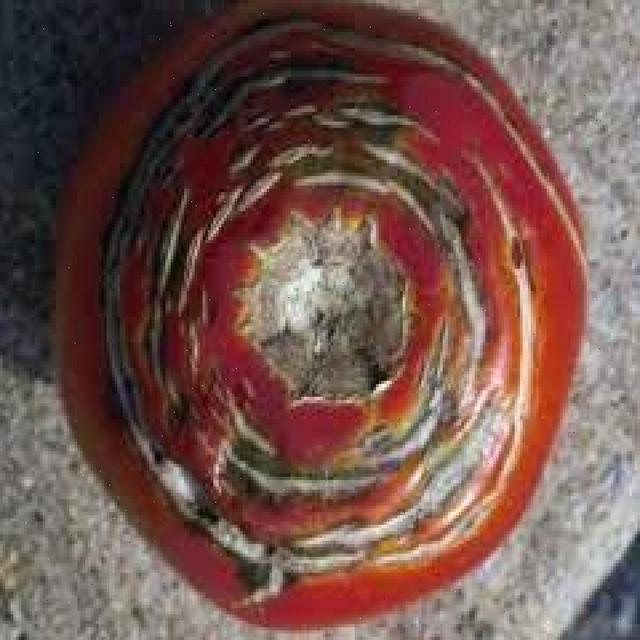Cracking Fruit: (60, 14, 387, 411)
